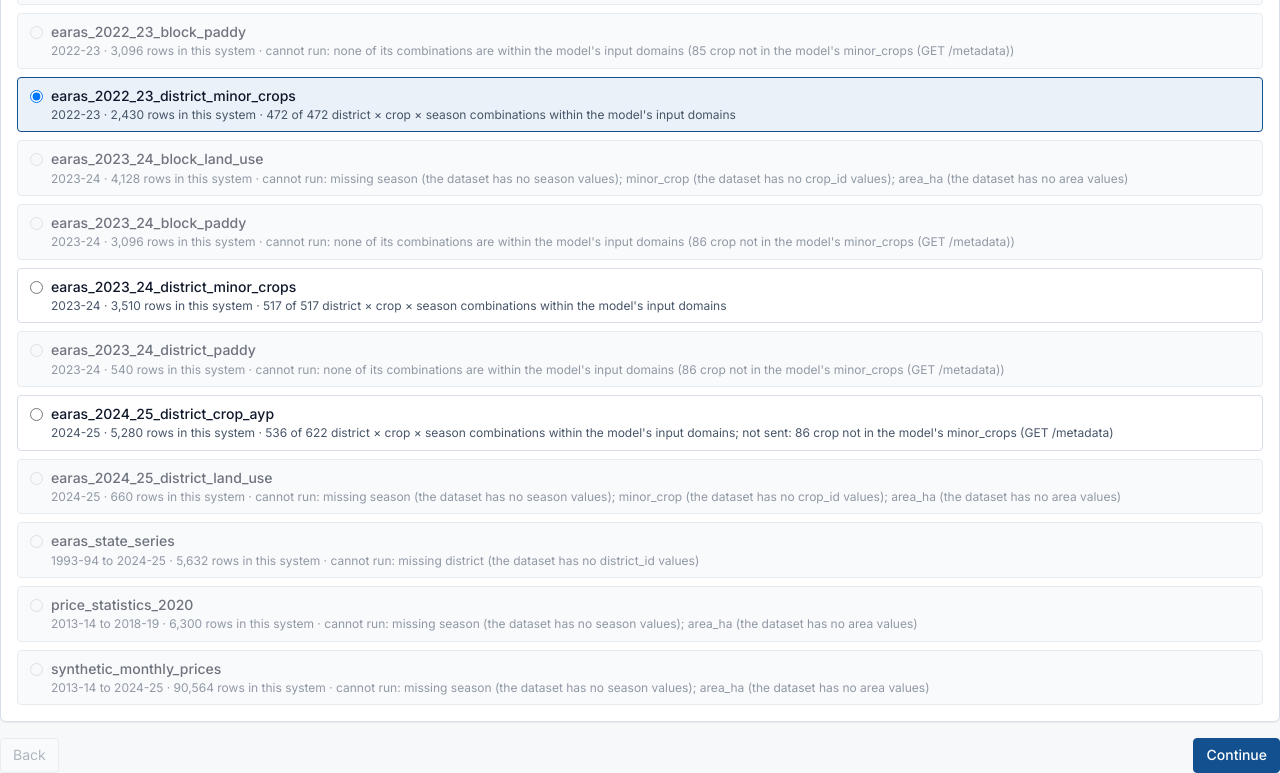
Test: Sandbox (RFP areas 6-7) › shows a failed run (runIncompatible) as a specific message
This screenshot has width=1280, height=773.
(page scrolled)
Click the button "Continue" at (1237, 756), box left=1194, top=738, right=1279, bottom=772
(page scrolled)
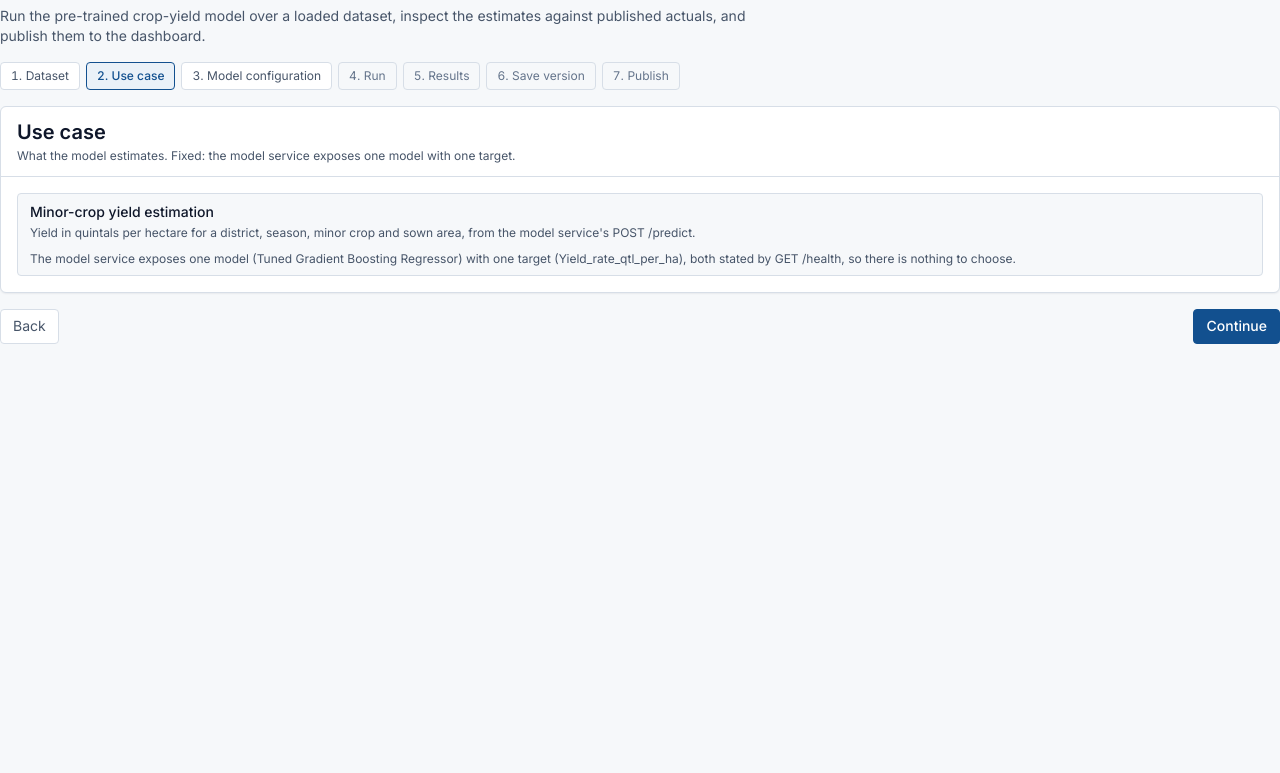
Click the button "Continue" at (1237, 326), box left=1194, top=309, right=1279, bottom=344
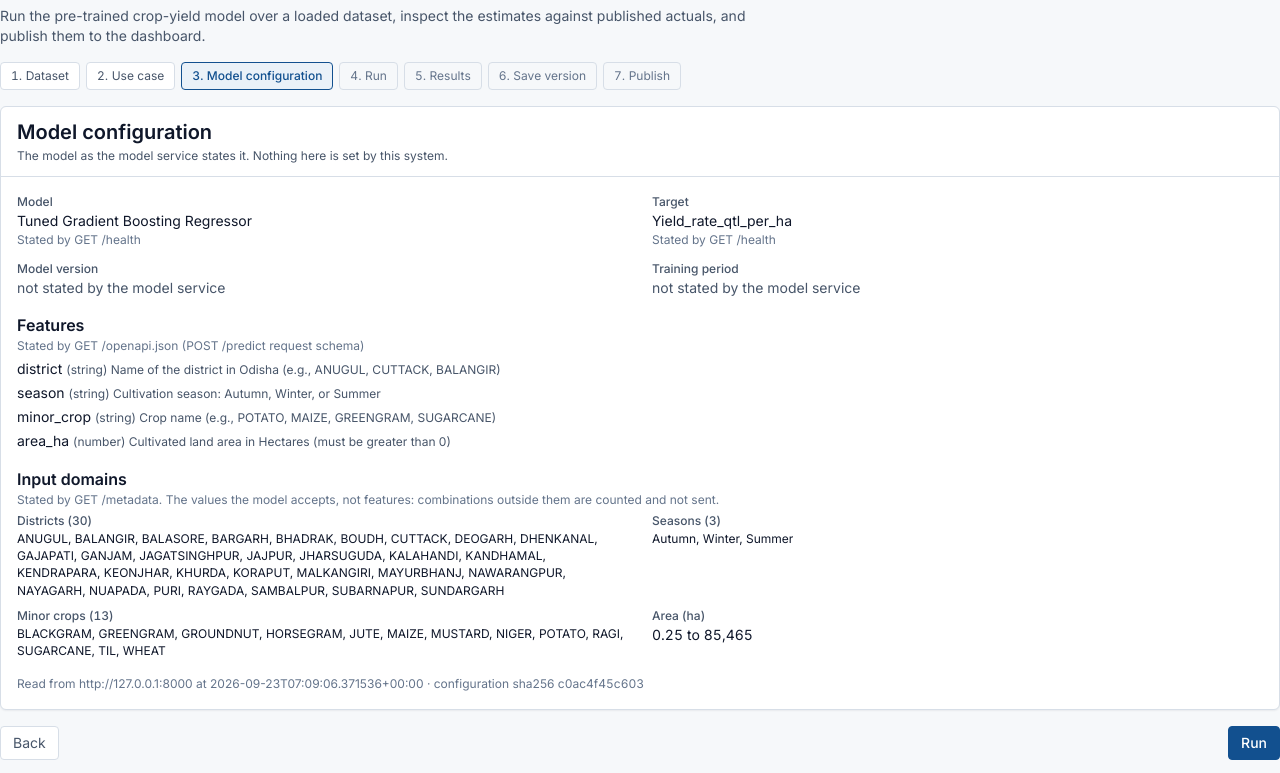
Click the button "Run" at (1254, 743), box left=1228, top=726, right=1279, bottom=760
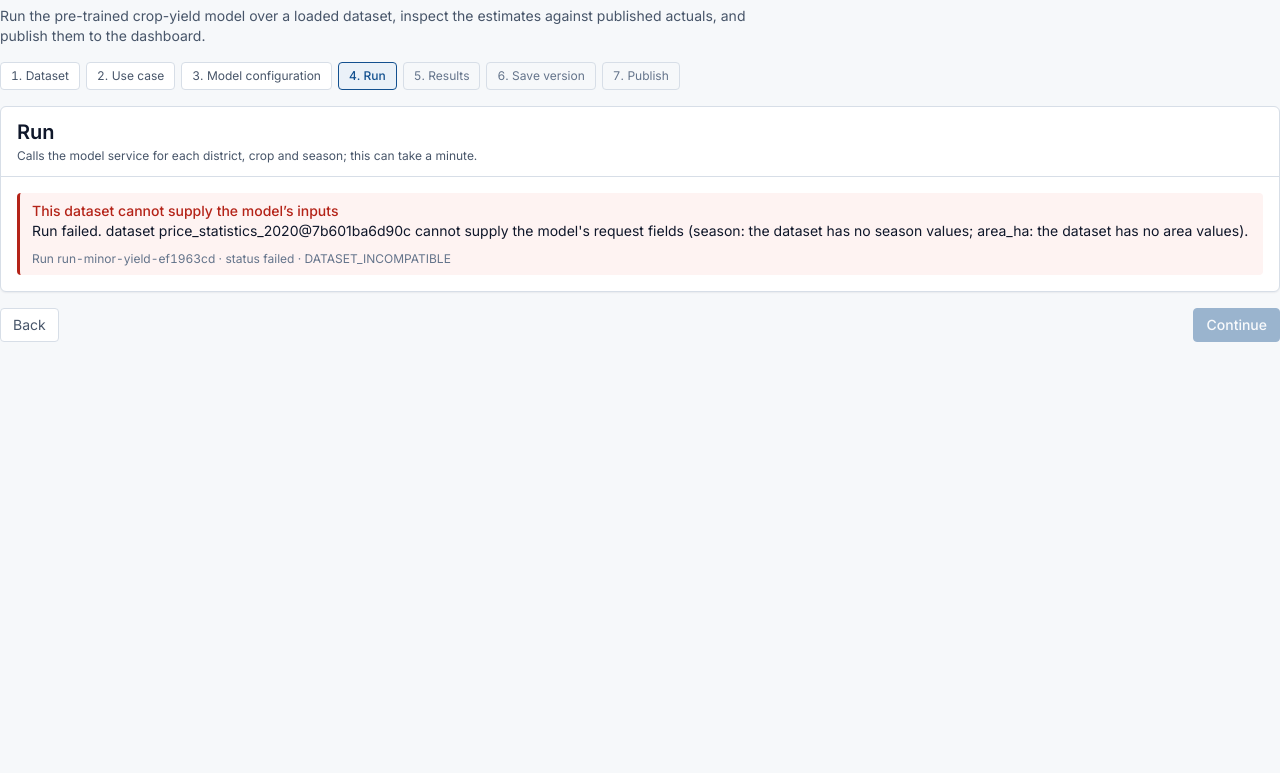
Expected: the button "5. Results" is disabled, left=403, top=62, right=480, bottom=90
Result: the message shows "This dataset cannot supply the model" at left=32, top=202, right=338, bottom=219
Result: the message shows "no season values" at left=32, top=222, right=1248, bottom=240
